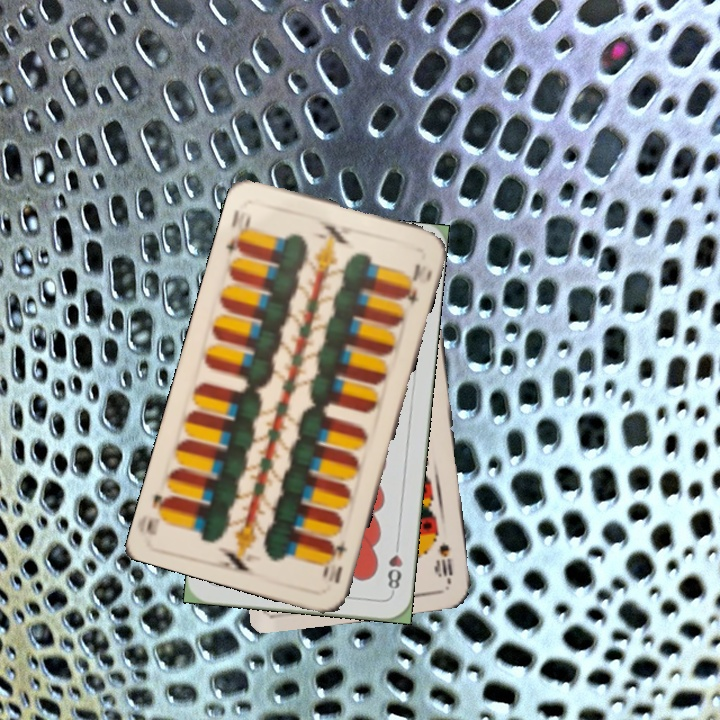E10: (221, 205, 254, 258), (318, 536, 349, 586)
H8: (383, 537, 405, 596)
S10: (435, 539, 456, 587)
